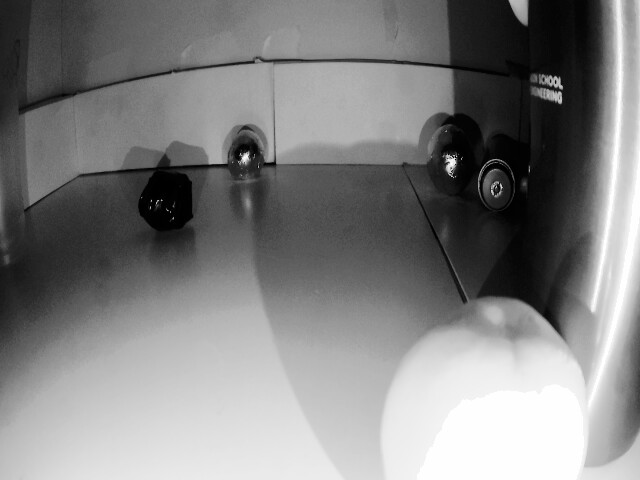black: (136, 171, 194, 228)
silver: (431, 116, 487, 199), (229, 133, 269, 181)
